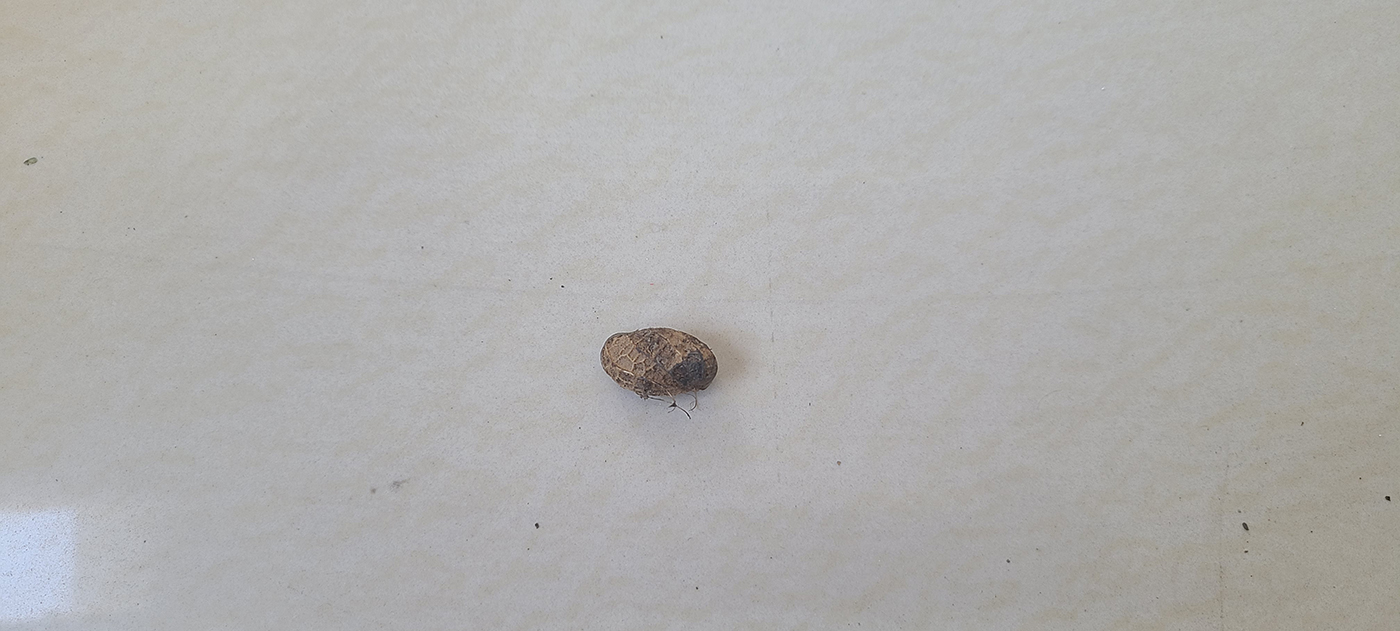l: (600, 323, 719, 400)
